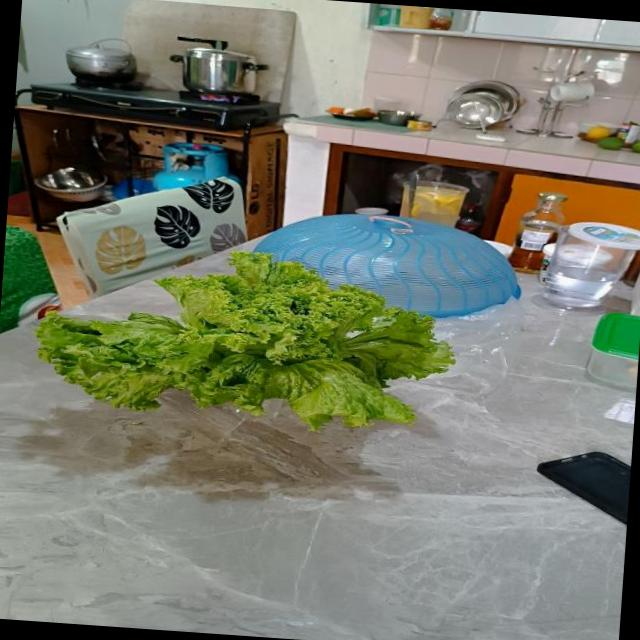Lettuce-Ready-to-Harvest: (34, 252, 453, 431)
